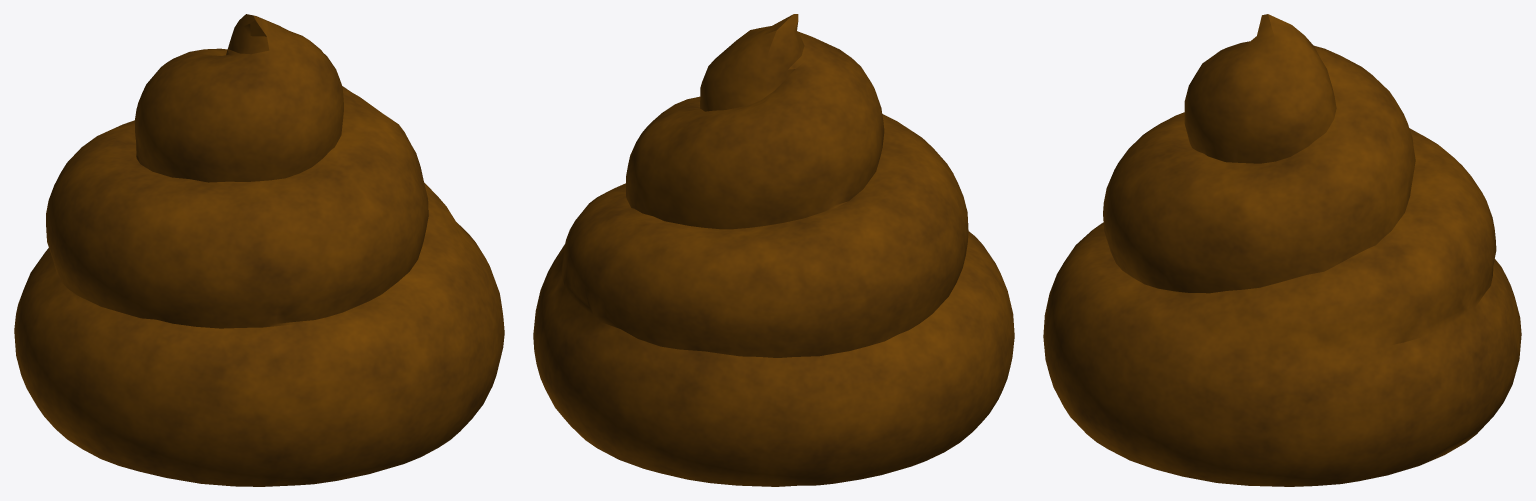
Rendered from говно.obj.
The picture shows the model from 3 angles, left to right: view 1: azimuth 30°, elevation 25°; view 2: azimuth 150°, elevation 25°; view 3: azimuth 270°, elevation 25°; orthographic projection. The views are drawn at different scales.
Visible parts, largest first — view 1: Говно; view 2: Говно; view 3: Говно.
Part boxes in pixels (<box>): Говно: <box>14,14,504,486</box>; Говно: <box>533,14,1014,486</box>; Говно: <box>1043,14,1521,486</box>.
Size of the model in its own units: 2 by 1.76 by 2.01.
Materials: 1 (1 with a texture image).
